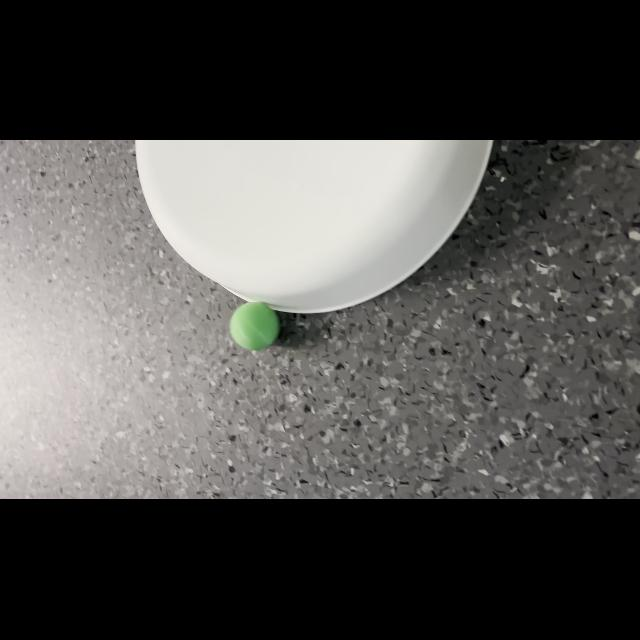objects: (226, 298, 284, 354)
